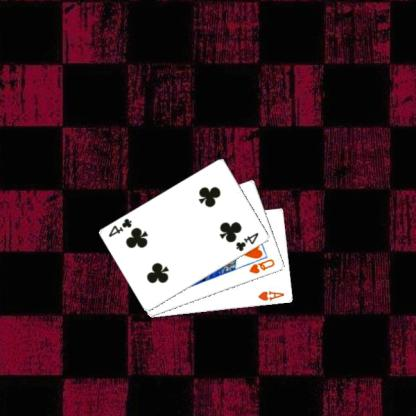4C: (235, 230, 262, 253), (108, 216, 135, 239)
AH: (258, 288, 288, 302)
QH: (248, 256, 278, 275)
